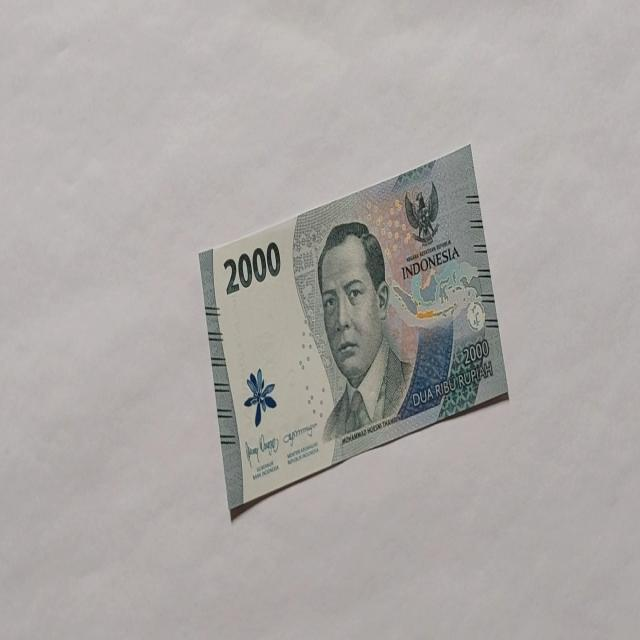dua ribu rupiah: (198, 142, 510, 518), (316, 220, 414, 443)
